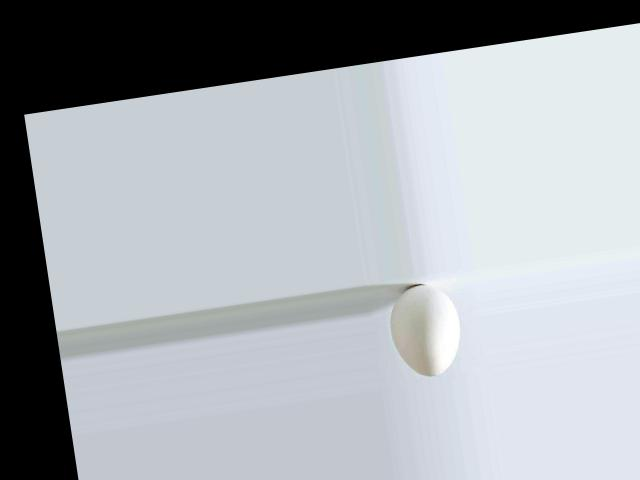egg: (386, 279, 467, 381)
